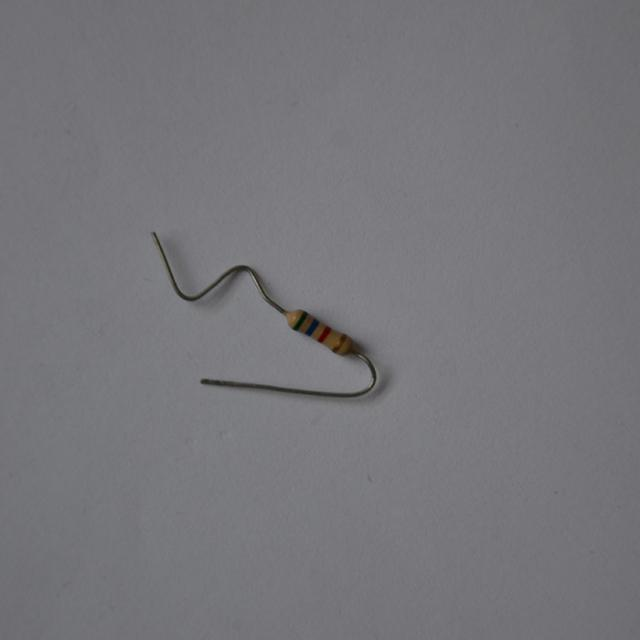blue: (304, 318, 320, 336)
gold: (332, 334, 346, 353)
green: (292, 310, 306, 329)
red: (317, 326, 330, 343)
resistor: (284, 300, 361, 368)
